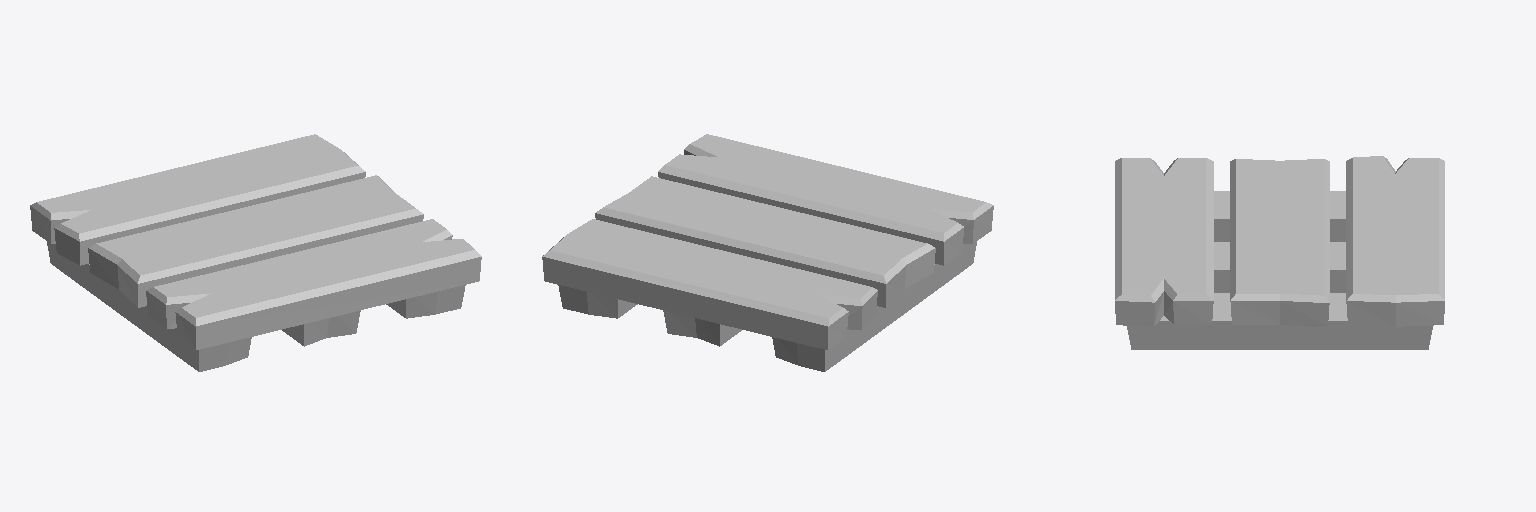
File: Pallet_Wood.obj
The picture shows the model from 3 angles: view 1: azimuth 30°, elevation 25°; view 2: azimuth 150°, elevation 25°; view 3: azimuth 270°, elevation 25°; orthographic projection.
Parts seen in each view (by area): view 1: Pallet_Wood; view 2: Pallet_Wood; view 3: Pallet_Wood.
Part boxes in pixels (x1,y1,x2,y2): Pallet_Wood: (30,134,481,371); Pallet_Wood: (542,134,993,371); Pallet_Wood: (1115,156,1444,349).
Size of the model in its own units: 1.55 by 0.3 by 1.5.